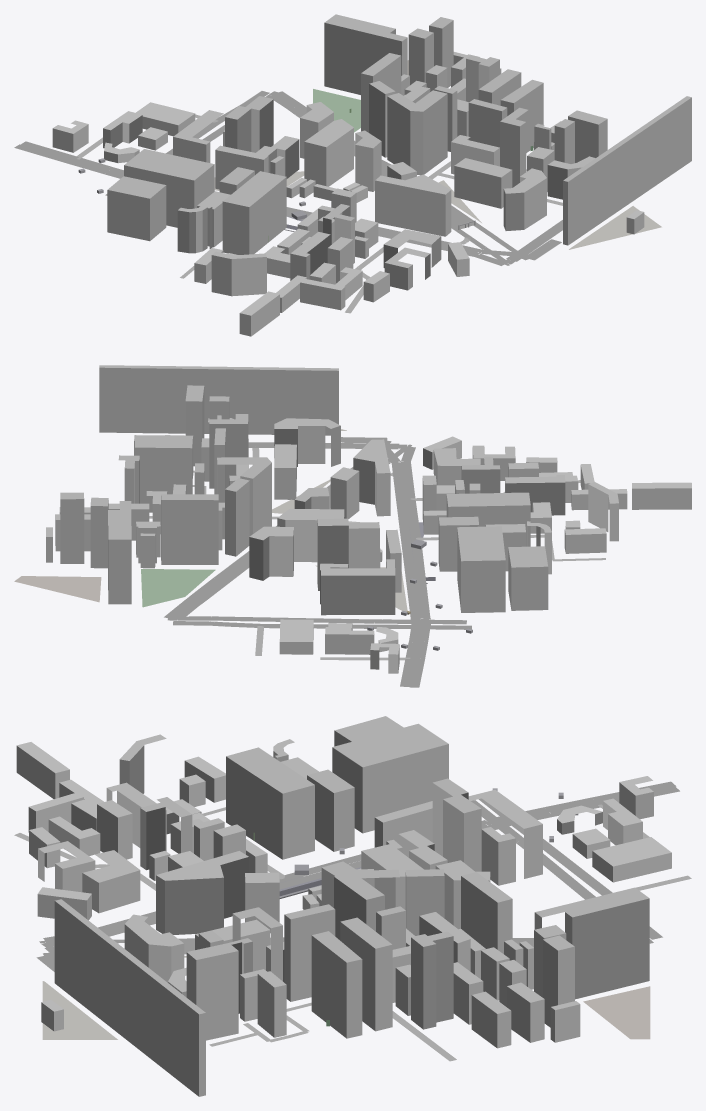
The picture shows the model from 3 angles, top to bottom: view 1: azimuth 30°, elevation 25°; view 2: azimuth 150°, elevation 25°; view 3: azimuth 270°, elevation 25°; orthographic projection. The views are drawn at different scales.
Bounding box in the file's own units: 637 × 90.39 × 558.
